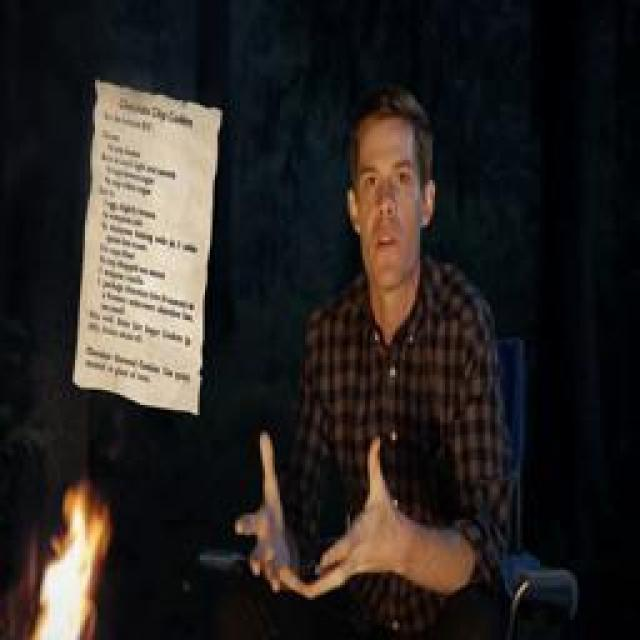Fire: (28, 482, 112, 640)
